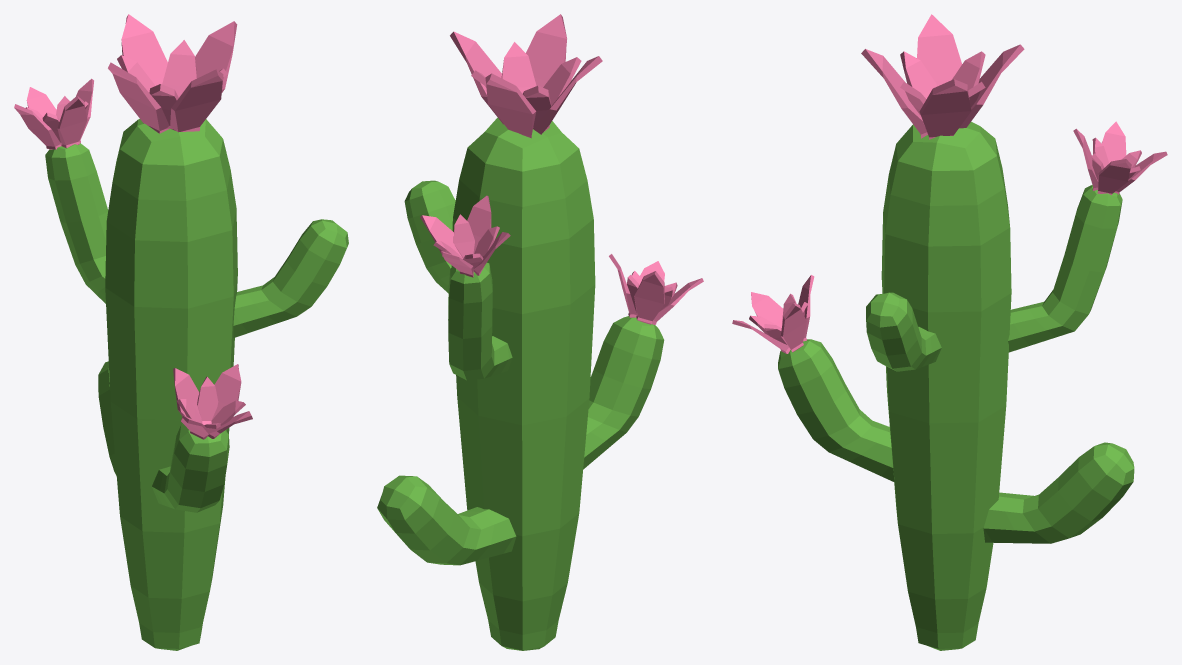
Rendered from nature-cactusflowers-2.glb.
3 renders of one model, left to right at view 1: azimuth 30°, elevation 25°; view 2: azimuth 150°, elevation 25°; view 3: azimuth 270°, elevation 25°, orthographic.
Visible parts, largest first — view 1: CactusFlowers_2; view 2: CactusFlowers_2; view 3: CactusFlowers_2.
Boxes of the visible parts, x1,y1,x2,y2 form: CactusFlowers_2: [14, 14, 348, 650]; CactusFlowers_2: [377, 14, 703, 650]; CactusFlowers_2: [732, 14, 1167, 650].
Size of the model in its own units: 76.54 by 194 by 128.
